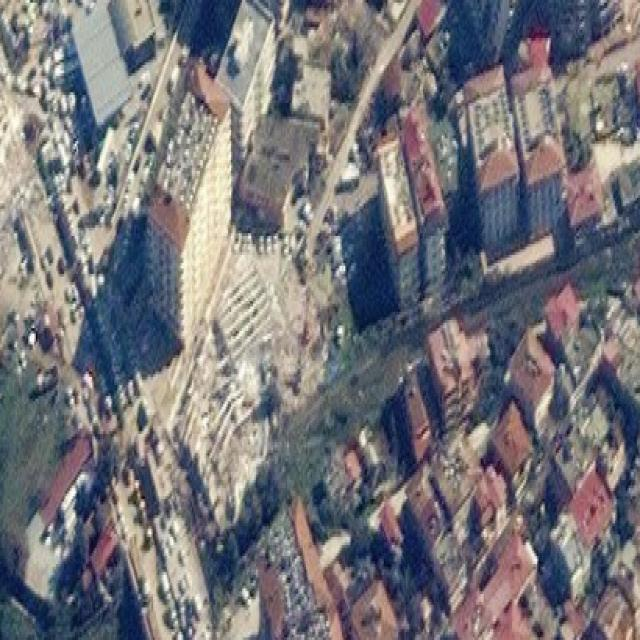Rubble: (182, 390, 262, 535), (228, 264, 312, 380), (2, 98, 34, 230), (198, 316, 240, 386)
